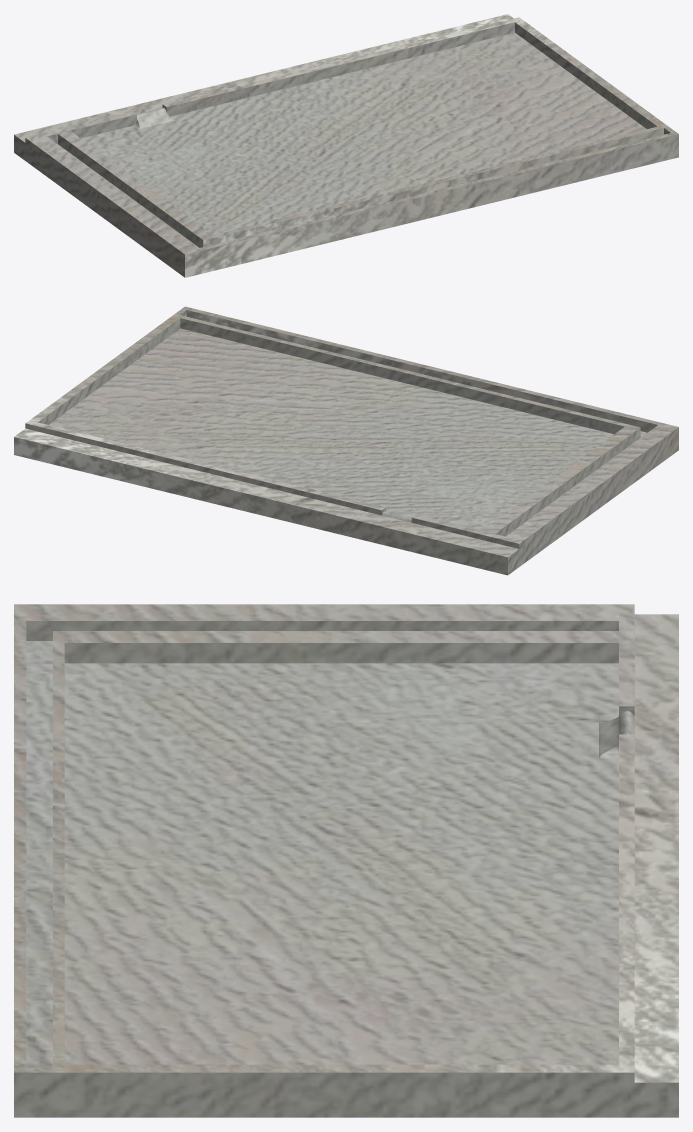
File: world.dae
The picture shows the model from 3 angles, top to bottom: view 1: azimuth 30°, elevation 25°; view 2: azimuth 150°, elevation 25°; view 3: azimuth 270°, elevation 25°; orthographic projection. The views are drawn at different scales.
Parts seen in each view (by area): view 1: slat_mine1; view 2: slat_mine1; view 3: slat_mine1.
Part boxes in pixels (x1,y1,x2,y2): slat_mine1: (14,14,678,277); slat_mine1: (14,306,678,575); slat_mine1: (14,604,678,1117).
Bounding box in the file's own units: 1000 × 600 × 45.
1 material, 1 textured.
